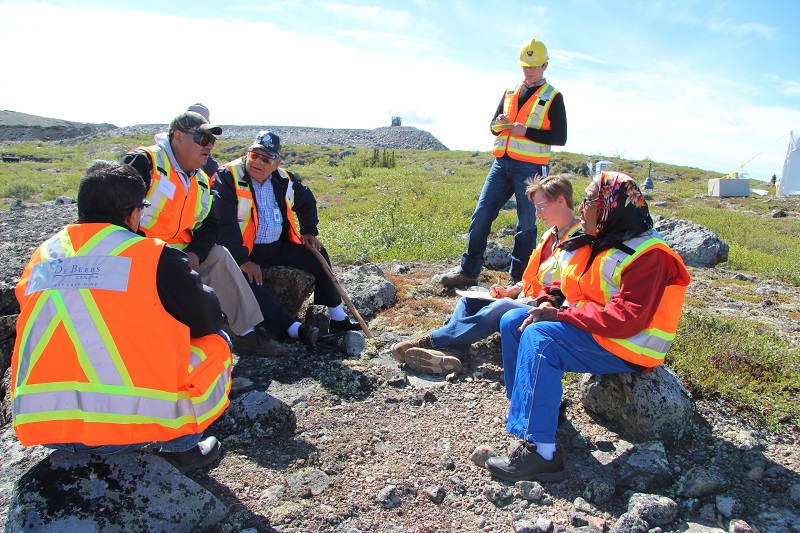epi: (478, 36, 567, 172)
noepi: (7, 159, 229, 467), (561, 167, 699, 409), (228, 130, 359, 342), (486, 171, 580, 315), (130, 111, 226, 243)
